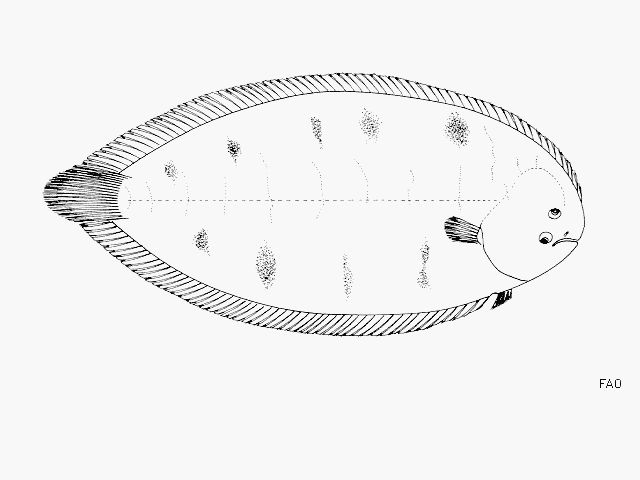fish: (46, 72, 586, 338)
